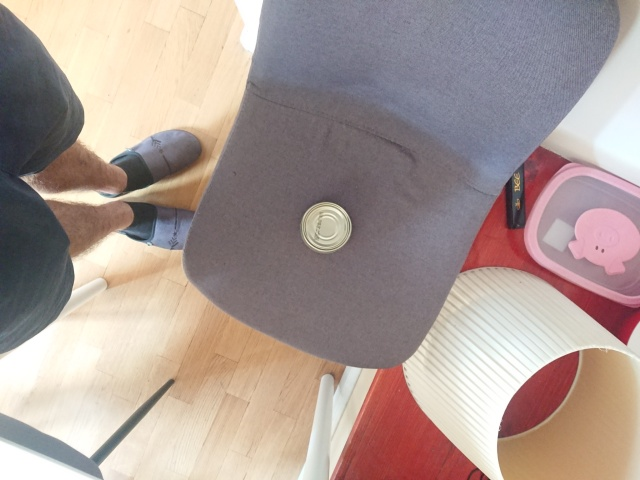Giana Tuna Salad Mexico 185g: (298, 199, 355, 257)
